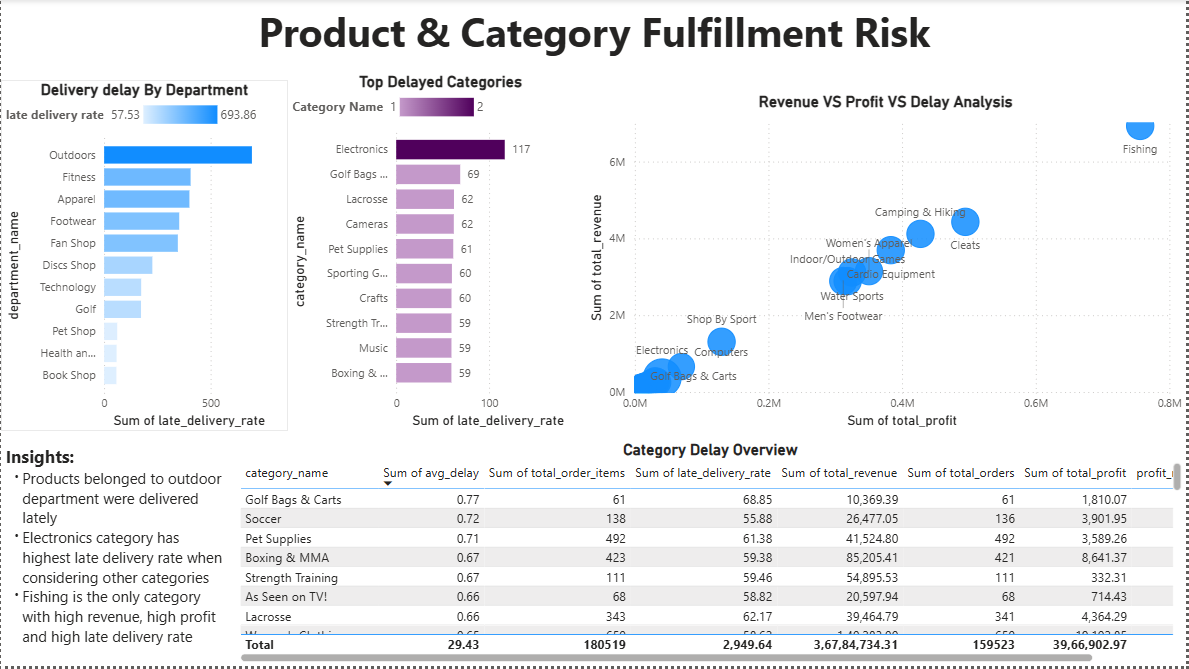

The page's visual inventory and layout, read from the dashboard file:
{"tool":"powerbi","page":{"name":"Page 3","canvas":[1280,720],"ordinal":2},"visuals":[{"type":"textbox","box":[0,0,1280.8,76.1],"z":0},{"type":"clusteredBarChart","title":"Top Delayed Categories","fields":{"Category":["analytics category_delay_profit_analysis.category_name"],"Y":["Sum(analytics category_delay_profit_analysis.late_delivery_rate)"]},"box":[309.9,79.4,330.7,387.4],"z":1},{"type":"scatterChart","title":"Revenue VS Profit VS Delay Analysis","fields":{"Category":["analytics category_delay_profit_analysis.category_name"],"X":["Sum(analytics category_delay_profit_analysis.total_profit)"],"Y":["Sum(analytics category_delay_profit_analysis.total_revenue)"],"Size":["Sum(analytics category_delay_profit_analysis.late_delivery_rate)"]},"box":[629.3,100.2,650.1,366.6],"z":2},{"type":"clusteredBarChart","title":"Delivery delay By Department","fields":{"Y":["Sum(analytics category_delay_profit_analysis.late_delivery_rate)"],"Category":["analytics category_delay_profit_analysis.department_name"]},"box":[0,86.9,309.9,379.8],"z":3},{"type":"tableEx","title":"Category Delay Overview","fields":{"Values":["analytics category_delay_profit_analysis.category_name","Sum(analytics category_delay_profit_analysis.avg_delay)","Sum(analytics category_delay_profit_analysis.total_order_items)","Sum(analytics category_delay_profit_analysis.late_delivery_rate)","Sum(analytics category_delay_profit_analysis.total_revenue)","Sum(analytics category_delay_profit_analysis.total_orders)","Sum(analytics category_delay_profit_analysis.total_profit)","analytics category_delay_profit_analysis.profit_margin_percent"]},"box":[252.6,476.1,1026.6,244.5],"z":4},{"type":"textbox","box":[0,476.1,252.6,244.5],"z":5}]}

Visuals, with their boxes in screenshot pixels (x1, y1, x2, y2), scaled from the page's 1280x720 canvas onto the 1189x669 screenshot:
textbox: (left=0, top=0, right=1188, bottom=71)
"Top Delayed Categories" clusteredBarChart: (left=288, top=74, right=595, bottom=434)
"Revenue VS Profit VS Delay Analysis" scatterChart: (left=585, top=93, right=1188, bottom=434)
"Delivery delay By Department" clusteredBarChart: (left=0, top=81, right=288, bottom=434)
"Category Delay Overview" tableEx: (left=235, top=442, right=1188, bottom=668)
textbox: (left=0, top=442, right=235, bottom=668)
